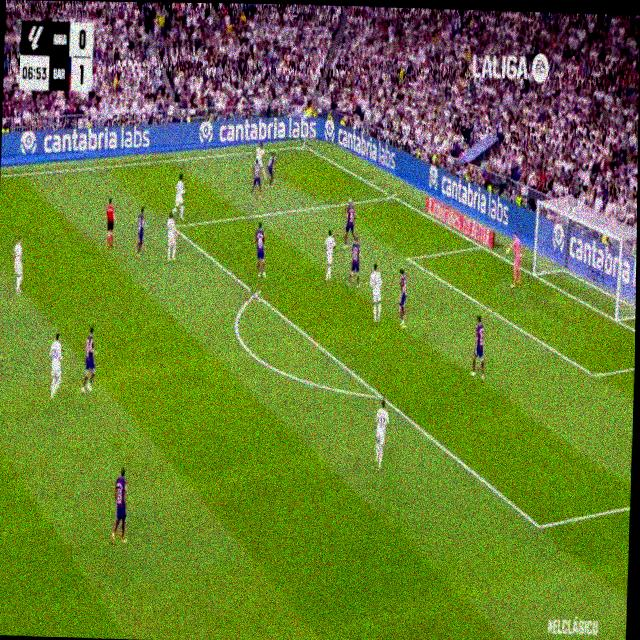bigarea_bottom_inner: (532, 509, 546, 541)
bigarea_top_outter: (387, 186, 397, 203)
bottom_arc_area_intersection: (374, 383, 385, 405)
corner: (299, 139, 309, 151)
smallarea_bottom_inner: (589, 364, 600, 386)
smallarea_top_inner: (403, 249, 412, 266)
top_arc_area_intersection: (250, 283, 260, 303)
